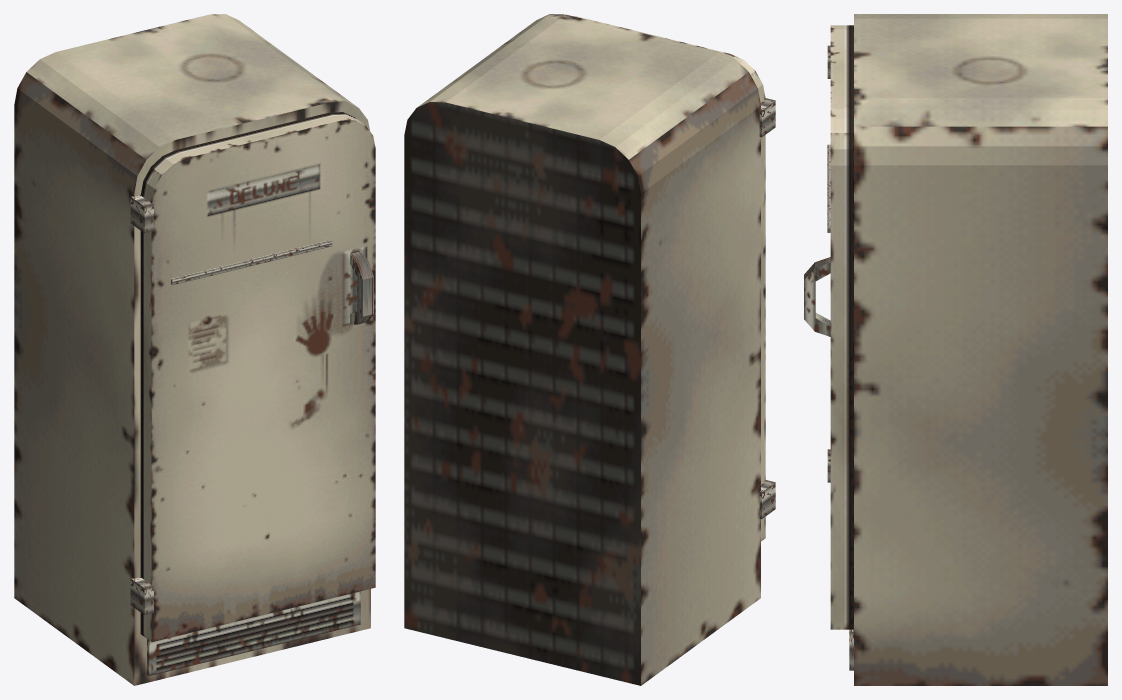
The model's file is fridge_retro.obj.
The picture shows the model from 3 angles, left to right: view 1: azimuth 30°, elevation 25°; view 2: azimuth 150°, elevation 25°; view 3: azimuth 270°, elevation 25°; orthographic projection. The views are drawn at different scales.
Visible parts, largest first — view 1: fridge_retro; view 2: fridge_retro; view 3: fridge_retro.
Boxes of the visible parts, left/top/right/bottom form: fridge_retro: left=14, top=14, right=375, bottom=685; fridge_retro: left=404, top=14, right=775, bottom=685; fridge_retro: left=804, top=14, right=1107, bottom=685.
Bounding box in the file's own units: 0.747 × 1.6 × 0.778.
1 material, 1 textured.
